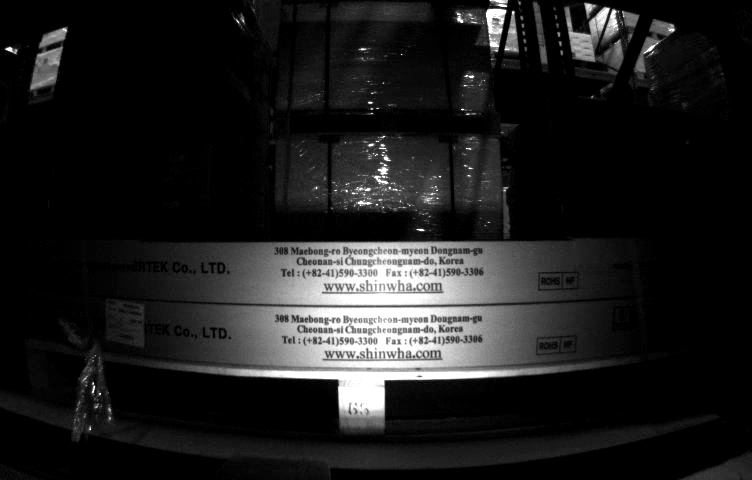True Barcode: (101, 295, 144, 344)
